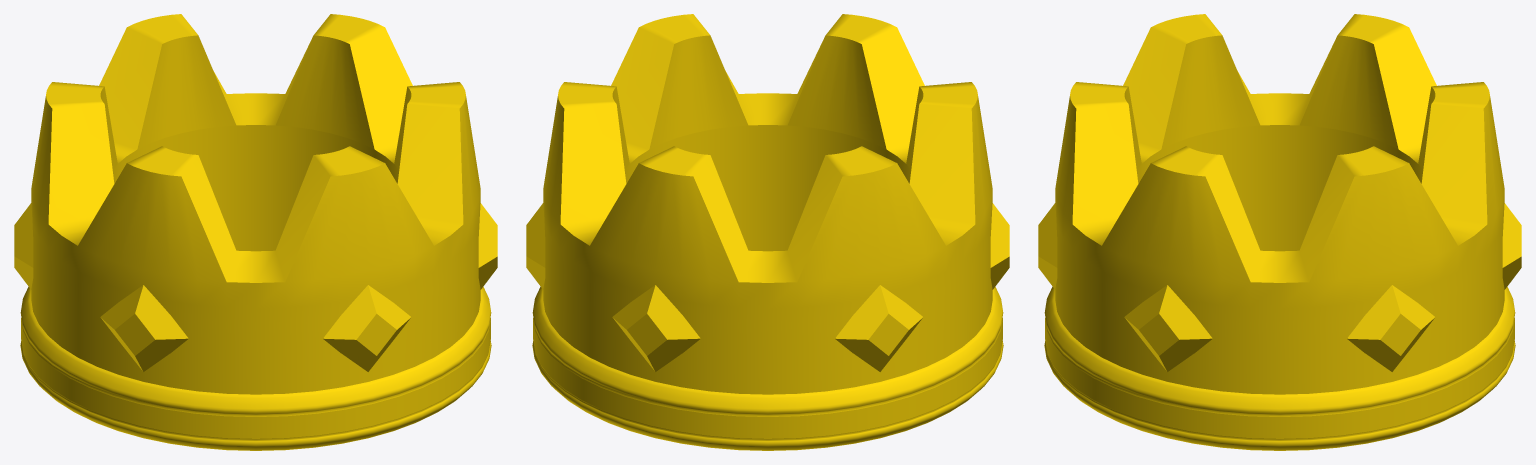
Rendered from NewCorona.FBX.
3 renders of one model, left to right at view 1: azimuth 30°, elevation 25°; view 2: azimuth 150°, elevation 25°; view 3: azimuth 270°, elevation 25°, orthographic.
Parts seen in each view (by area): view 1: Box176; view 2: Box176; view 3: Box176.
Boxes of the visible parts, <box> form: Box176: <box>14,14,497,450</box>; Box176: <box>526,14,1009,450</box>; Box176: <box>1038,14,1521,450</box>.
Size of the model in its own units: 23.15 by 14.25 by 23.74.
